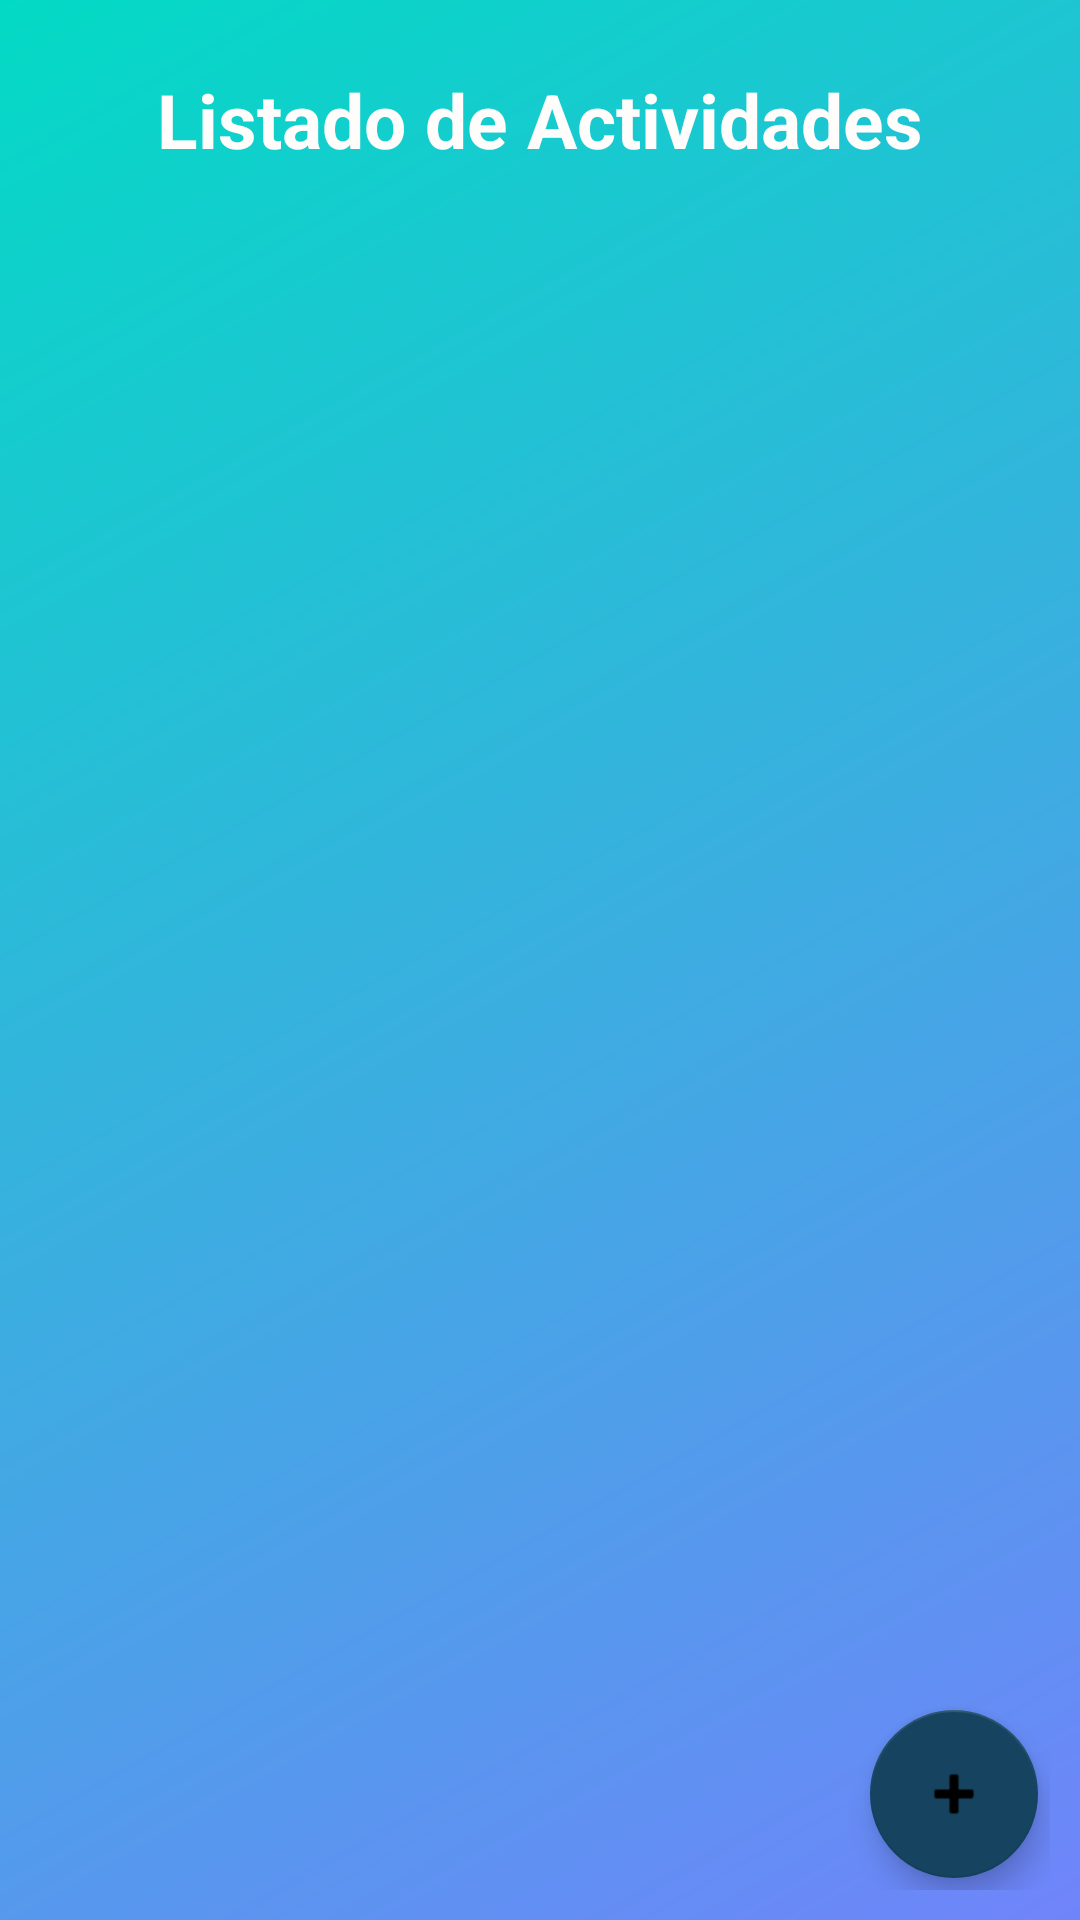

Screen size 1080×1920. Icon name, then its box in pixels as [x1,y1,x2,y2]:
add: [870,1710,1038,1878]
